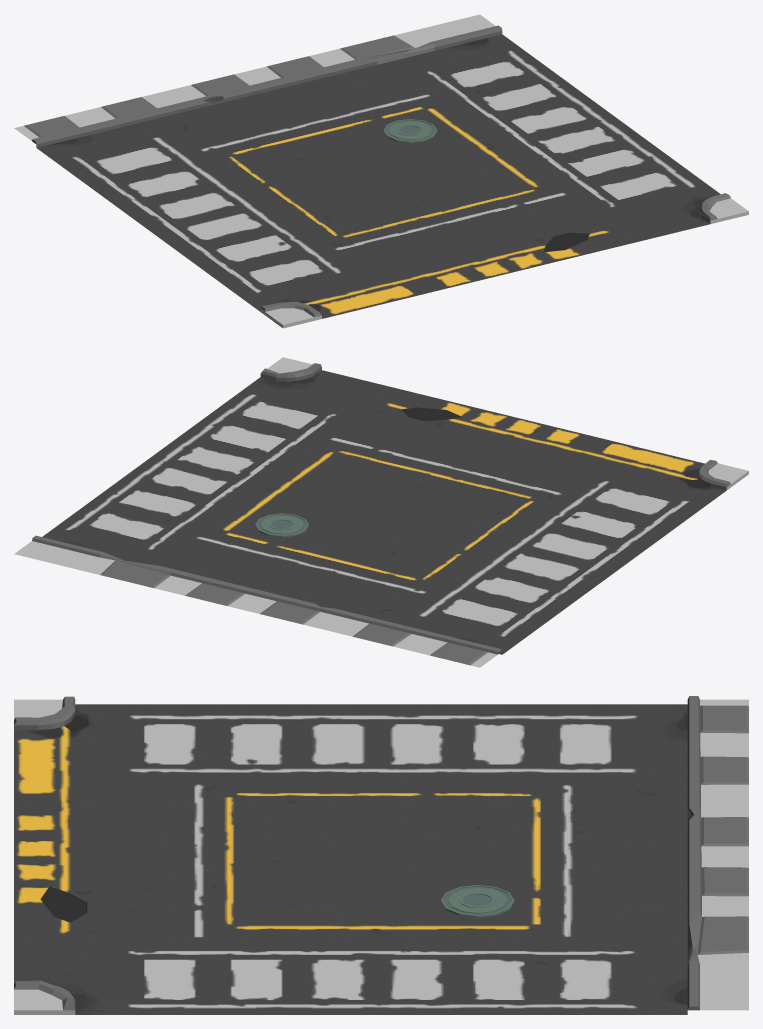
The model's file is Highway_Crossway_T.fbx.
3 renders of one model, top to bottom at view 1: azimuth 30°, elevation 25°; view 2: azimuth 150°, elevation 25°; view 3: azimuth 270°, elevation 25°, orthographic. The views are drawn at different scales.
Visible parts, largest first — view 1: Highway_Crossway_T; view 2: Highway_Crossway_T; view 3: Highway_Crossway_T.
Boxes of the visible parts, x1=… form: Highway_Crossway_T: x1=14, y1=14, x2=748, y2=328; Highway_Crossway_T: x1=14, y1=357, x2=748, y2=667; Highway_Crossway_T: x1=14, y1=696, x2=748, y2=1014.
Bounding box in the file's own units: 2400 × 39.78 × 2400.
